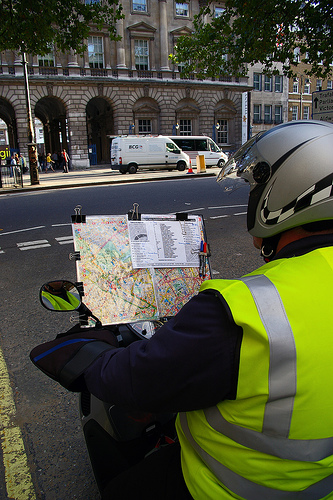helmet: (230, 125, 333, 245)
